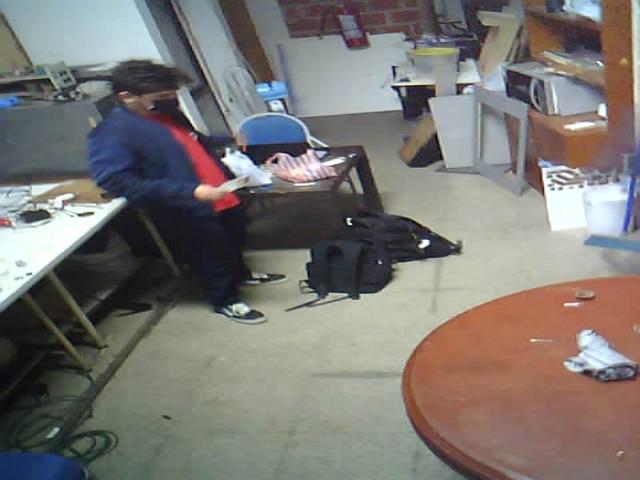person: (73, 47, 280, 336)
